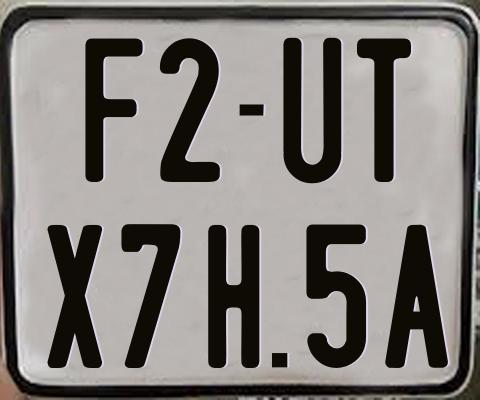2: (158, 38, 218, 184)
5: (306, 221, 372, 370)
7: (118, 224, 178, 370)
A: (385, 224, 454, 367)
F: (82, 37, 142, 183)
H: (208, 225, 264, 369)
T: (357, 37, 412, 181)
U: (280, 35, 343, 181)
X: (45, 222, 103, 367)
